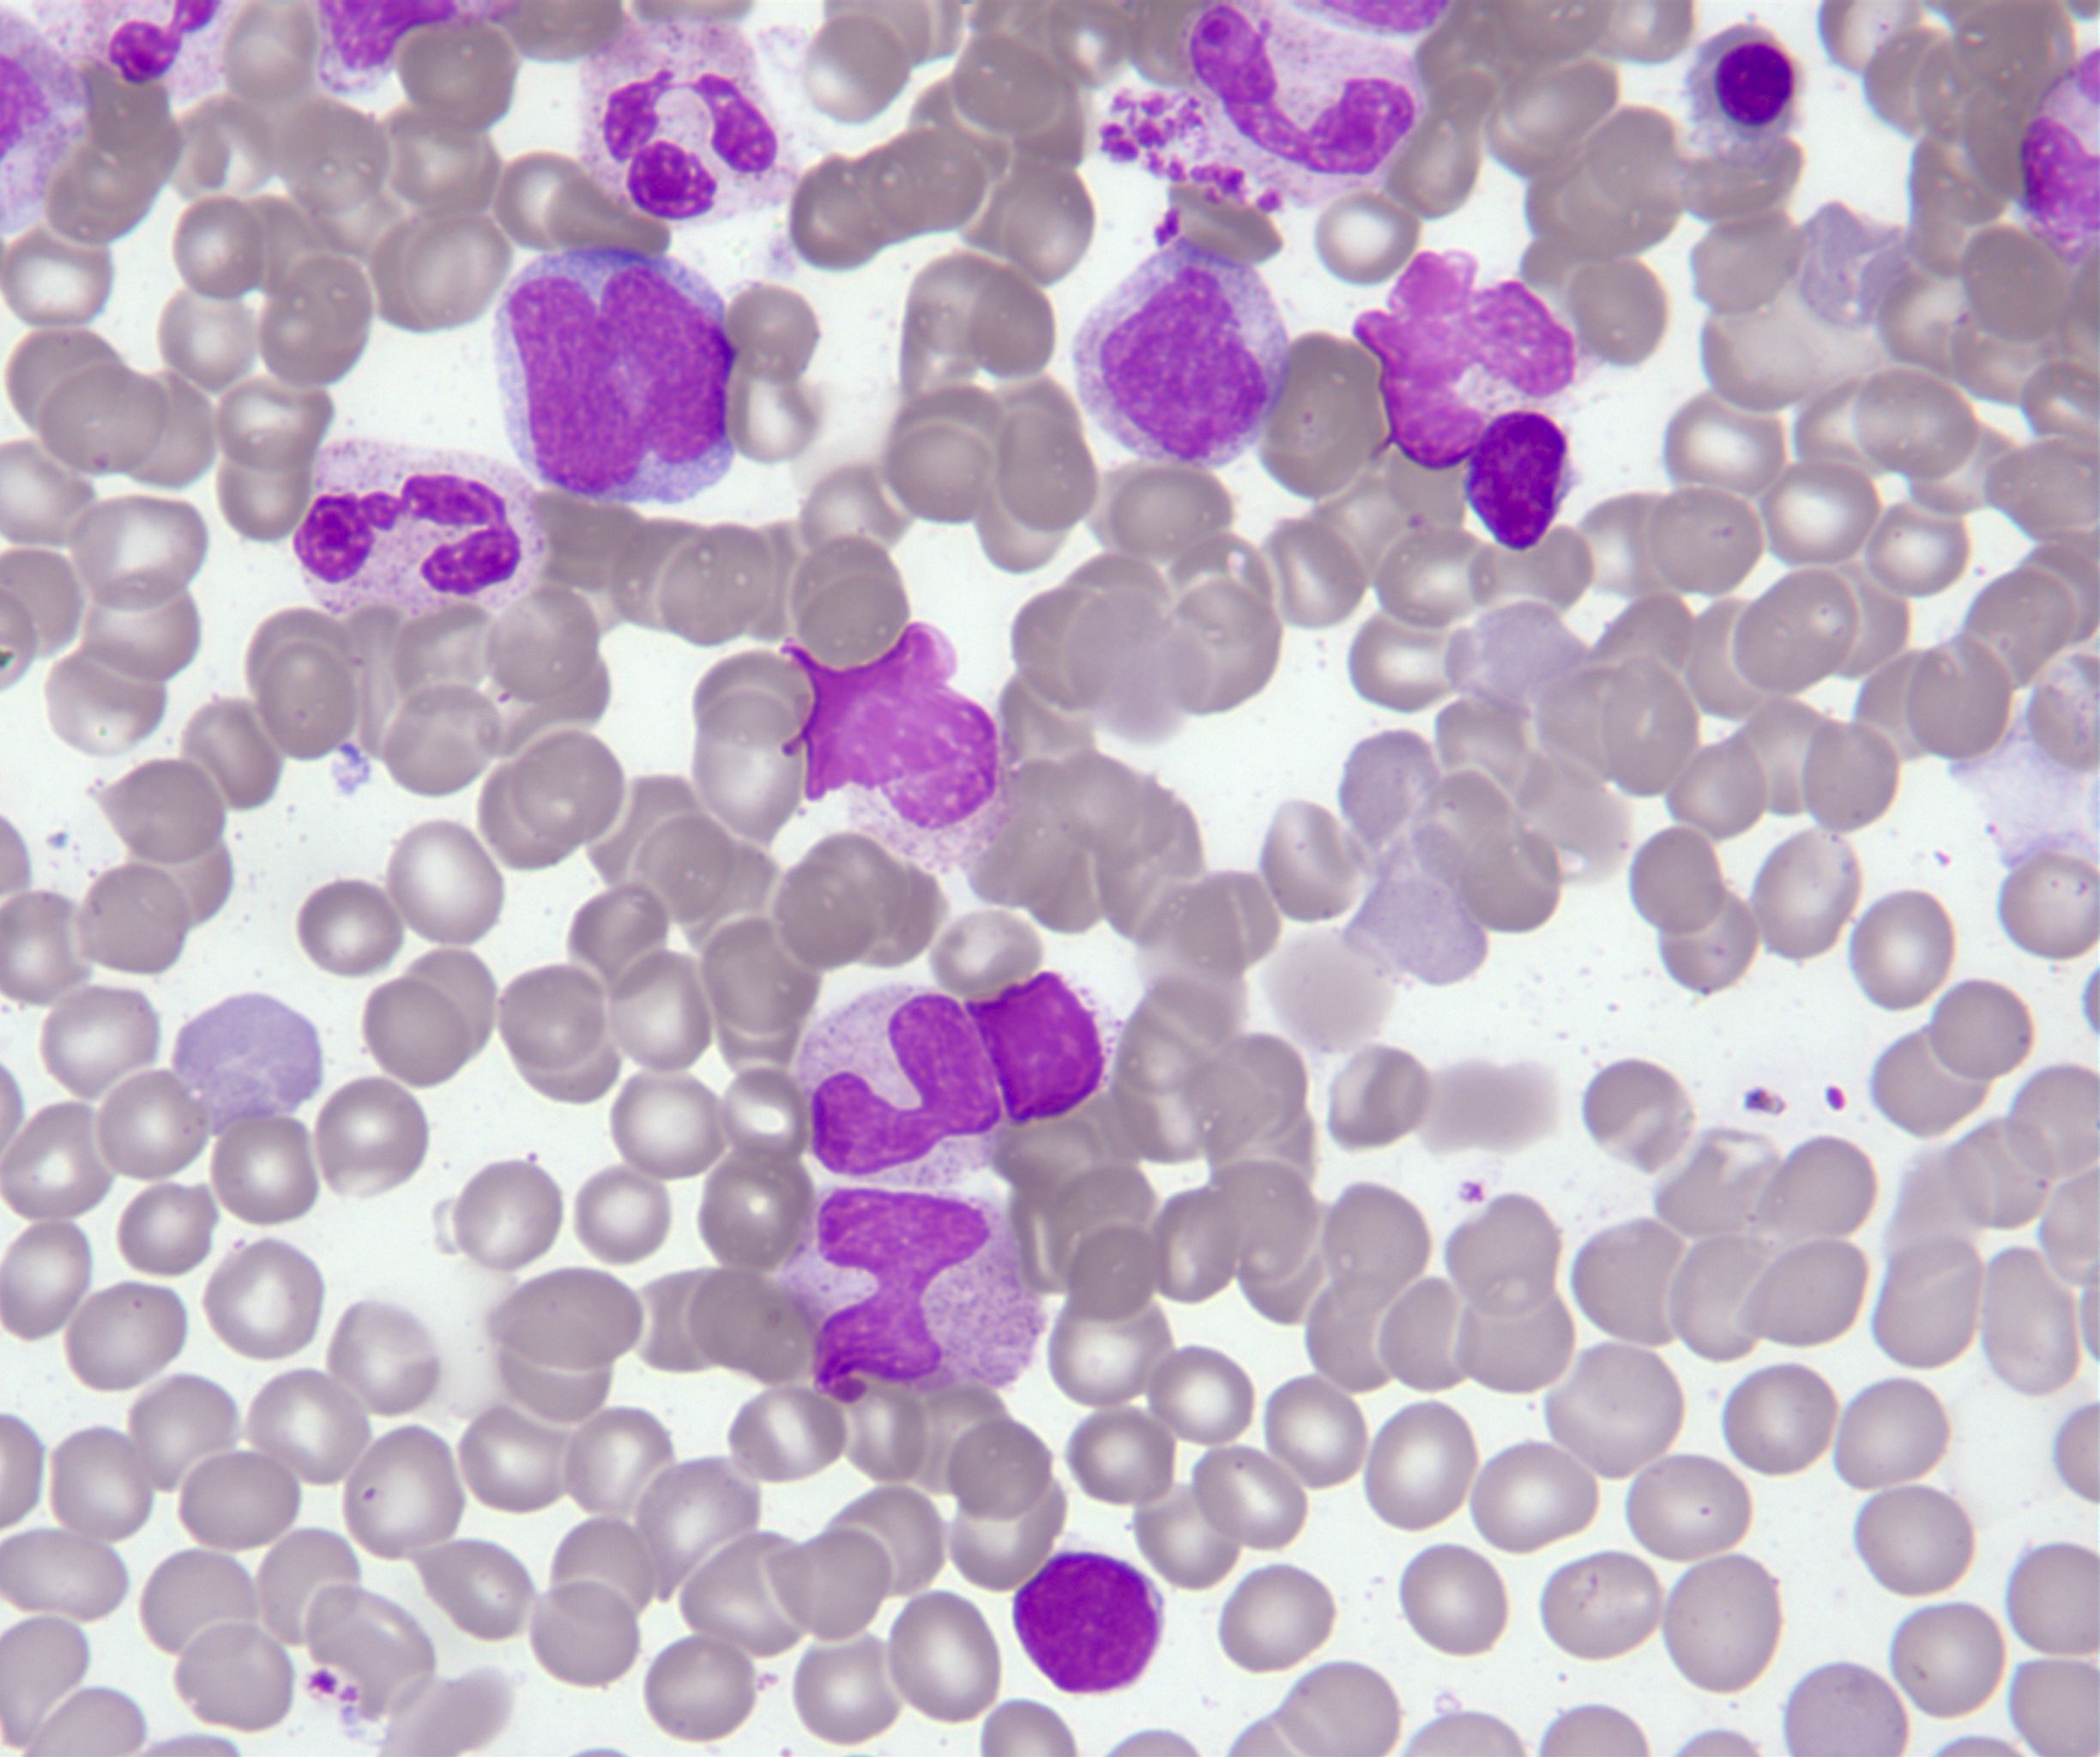24: (1685, 21, 1805, 155)
3: (485, 244, 748, 511), (1064, 241, 1294, 480)
32: (1008, 1541, 1170, 1699), (1460, 403, 1580, 557)
4: (781, 1181, 1055, 1410)
5: (1177, 0, 1434, 206), (788, 979, 1015, 1186)
6: (286, 431, 549, 625), (567, 14, 799, 234)
x: (773, 611, 1024, 883), (959, 968, 1109, 1131)
